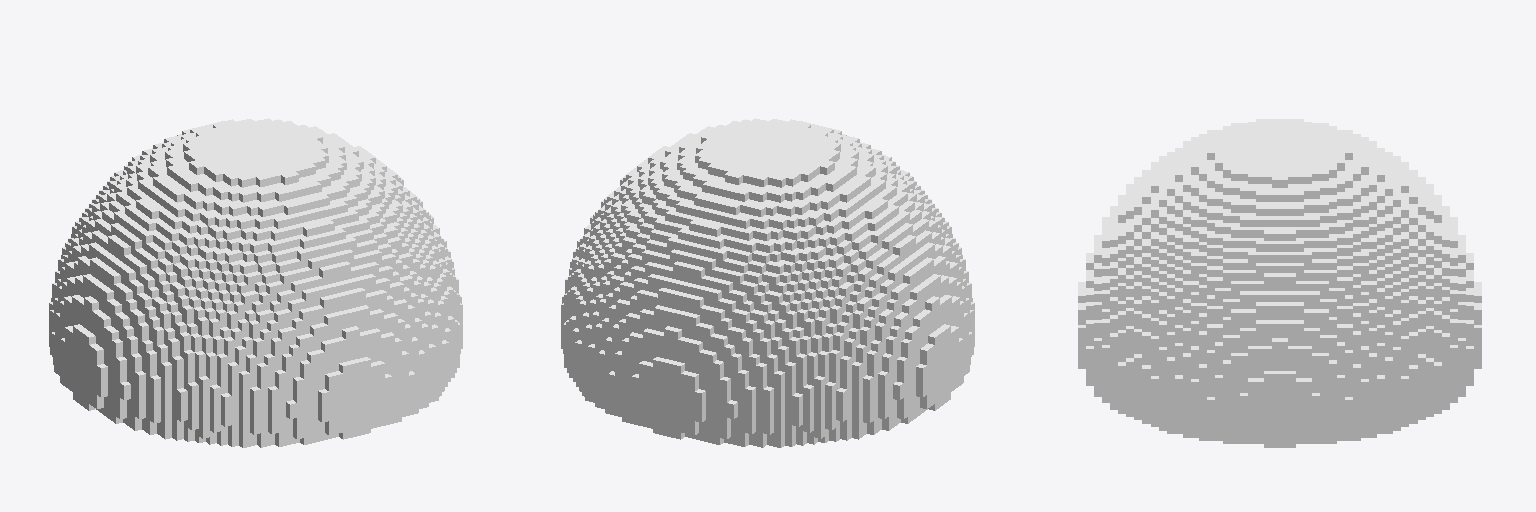
The model's file is snowDome.obj.
The picture shows the model from 3 angles: view 1: azimuth 30°, elevation 25°; view 2: azimuth 150°, elevation 25°; view 3: azimuth 270°, elevation 25°; orthographic projection.
Parts seen in each view (by area): view 1: object 1; view 2: object 1; view 3: object 1.
Boxes of the visible parts, box(x1,y1,x2,y2) form: object 1: box(49, 118, 462, 447); object 1: box(561, 118, 974, 447); object 1: box(1078, 119, 1481, 447).
Size of the model in its own units: 5 by 2.9 by 5.